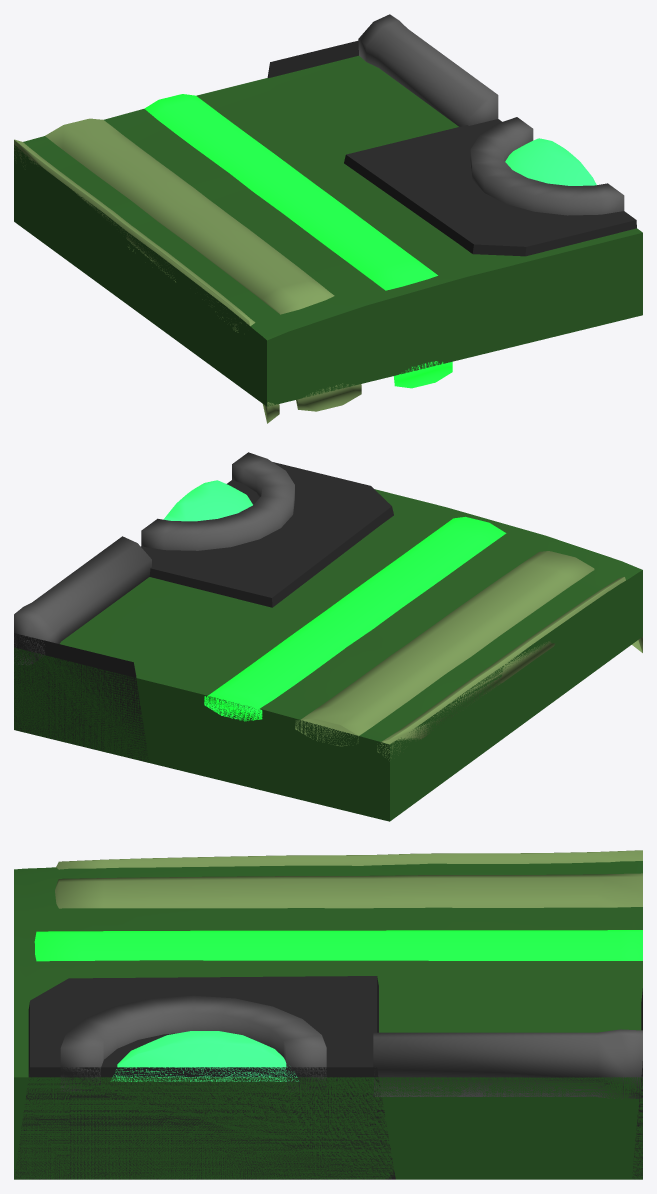
The model's file is newshj-231-f2.glb.
3 views of the same model, one above another, from view 1: azimuth 30°, elevation 25°; view 2: azimuth 150°, elevation 25°; view 3: azimuth 270°, elevation 25° (orthographic). The views are drawn at different scales.
Visible parts, largest first — view 1: newshj-231-f2; view 2: newshj-231-f2; view 3: newshj-231-f2.
Boxes of the visible parts, x1=… form: newshj-231-f2: x1=14, y1=14, x2=642, y2=423; newshj-231-f2: x1=14, y1=452, x2=642, y2=821; newshj-231-f2: x1=14, y1=850, x2=642, y2=1179.
Size of the model in its own units: 2 by 0.677 by 2.33.
